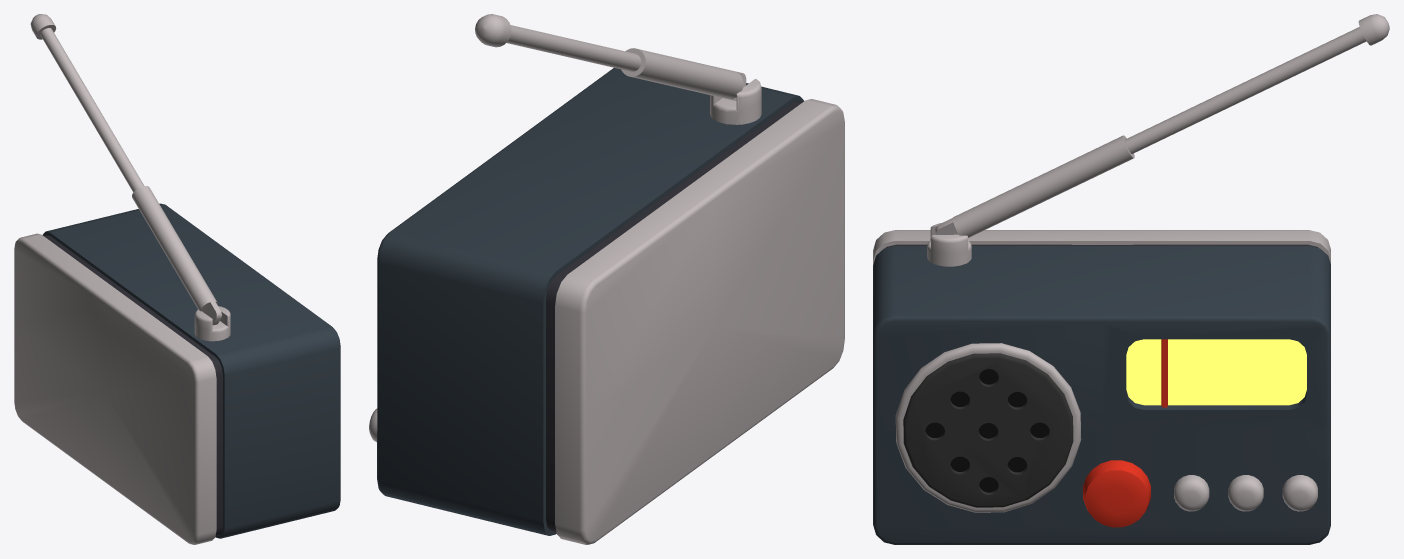
The model's file is radio.glb.
The picture shows the model from 3 angles, left to right: view 1: azimuth 30°, elevation 25°; view 2: azimuth 150°, elevation 25°; view 3: azimuth 270°, elevation 25°; orthographic projection. The views are drawn at different scales.
Visible parts, largest first — view 1: Cube.003; view 2: Cube.003; view 3: Cube.003.
Part boxes in pixels (<box>): Cube.003: <box>14,14,340,544</box>; Cube.003: <box>369,14,844,544</box>; Cube.003: <box>873,14,1389,544</box>.
Size of the model in its own units: 0.1212 by 0.2723 by 0.2707.
